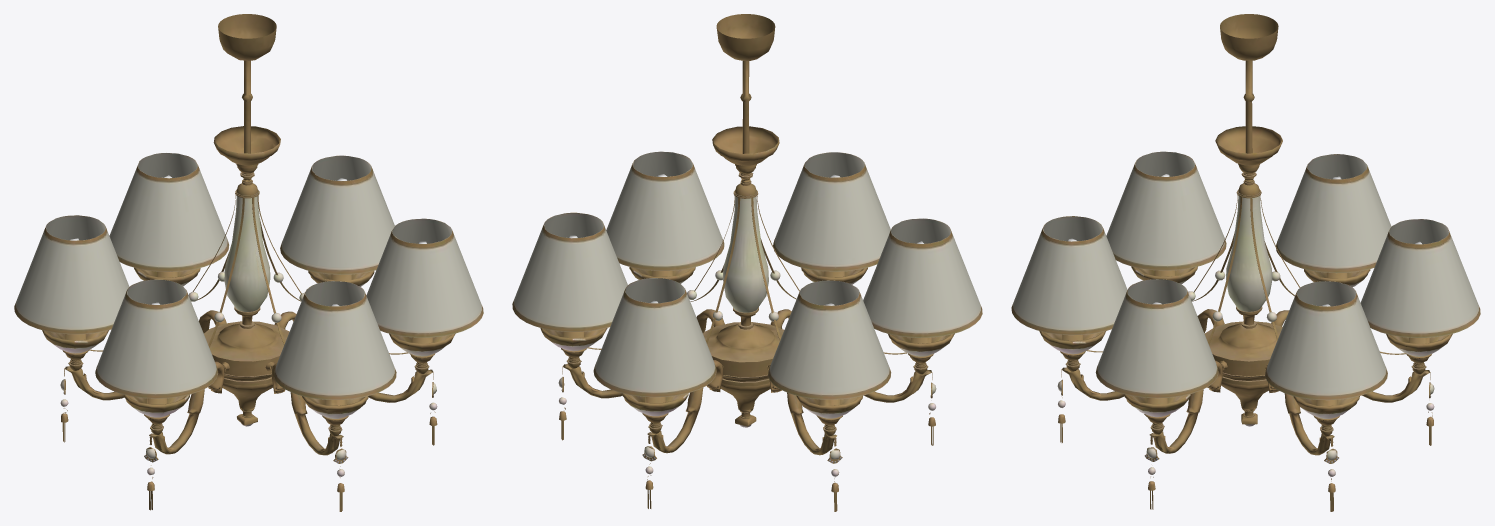
File: Chandelier_01.glb
The picture shows the model from 3 angles, left to right: view 1: azimuth 30°, elevation 25°; view 2: azimuth 150°, elevation 25°; view 3: azimuth 270°, elevation 25°; orthographic projection.
Parts seen in each view (by area): view 1: Chandelier_01; view 2: Chandelier_01; view 3: Chandelier_01.
Part boxes in pixels (box(x1,y1,x2,y2)): Chandelier_01: box(14, 14, 483, 511); Chandelier_01: box(512, 14, 982, 511); Chandelier_01: box(1011, 14, 1480, 511).
Bounding box in the file's own units: 0.7465 × 0.7983 × 0.8155.
Materials: 2 (1 with a texture image).
